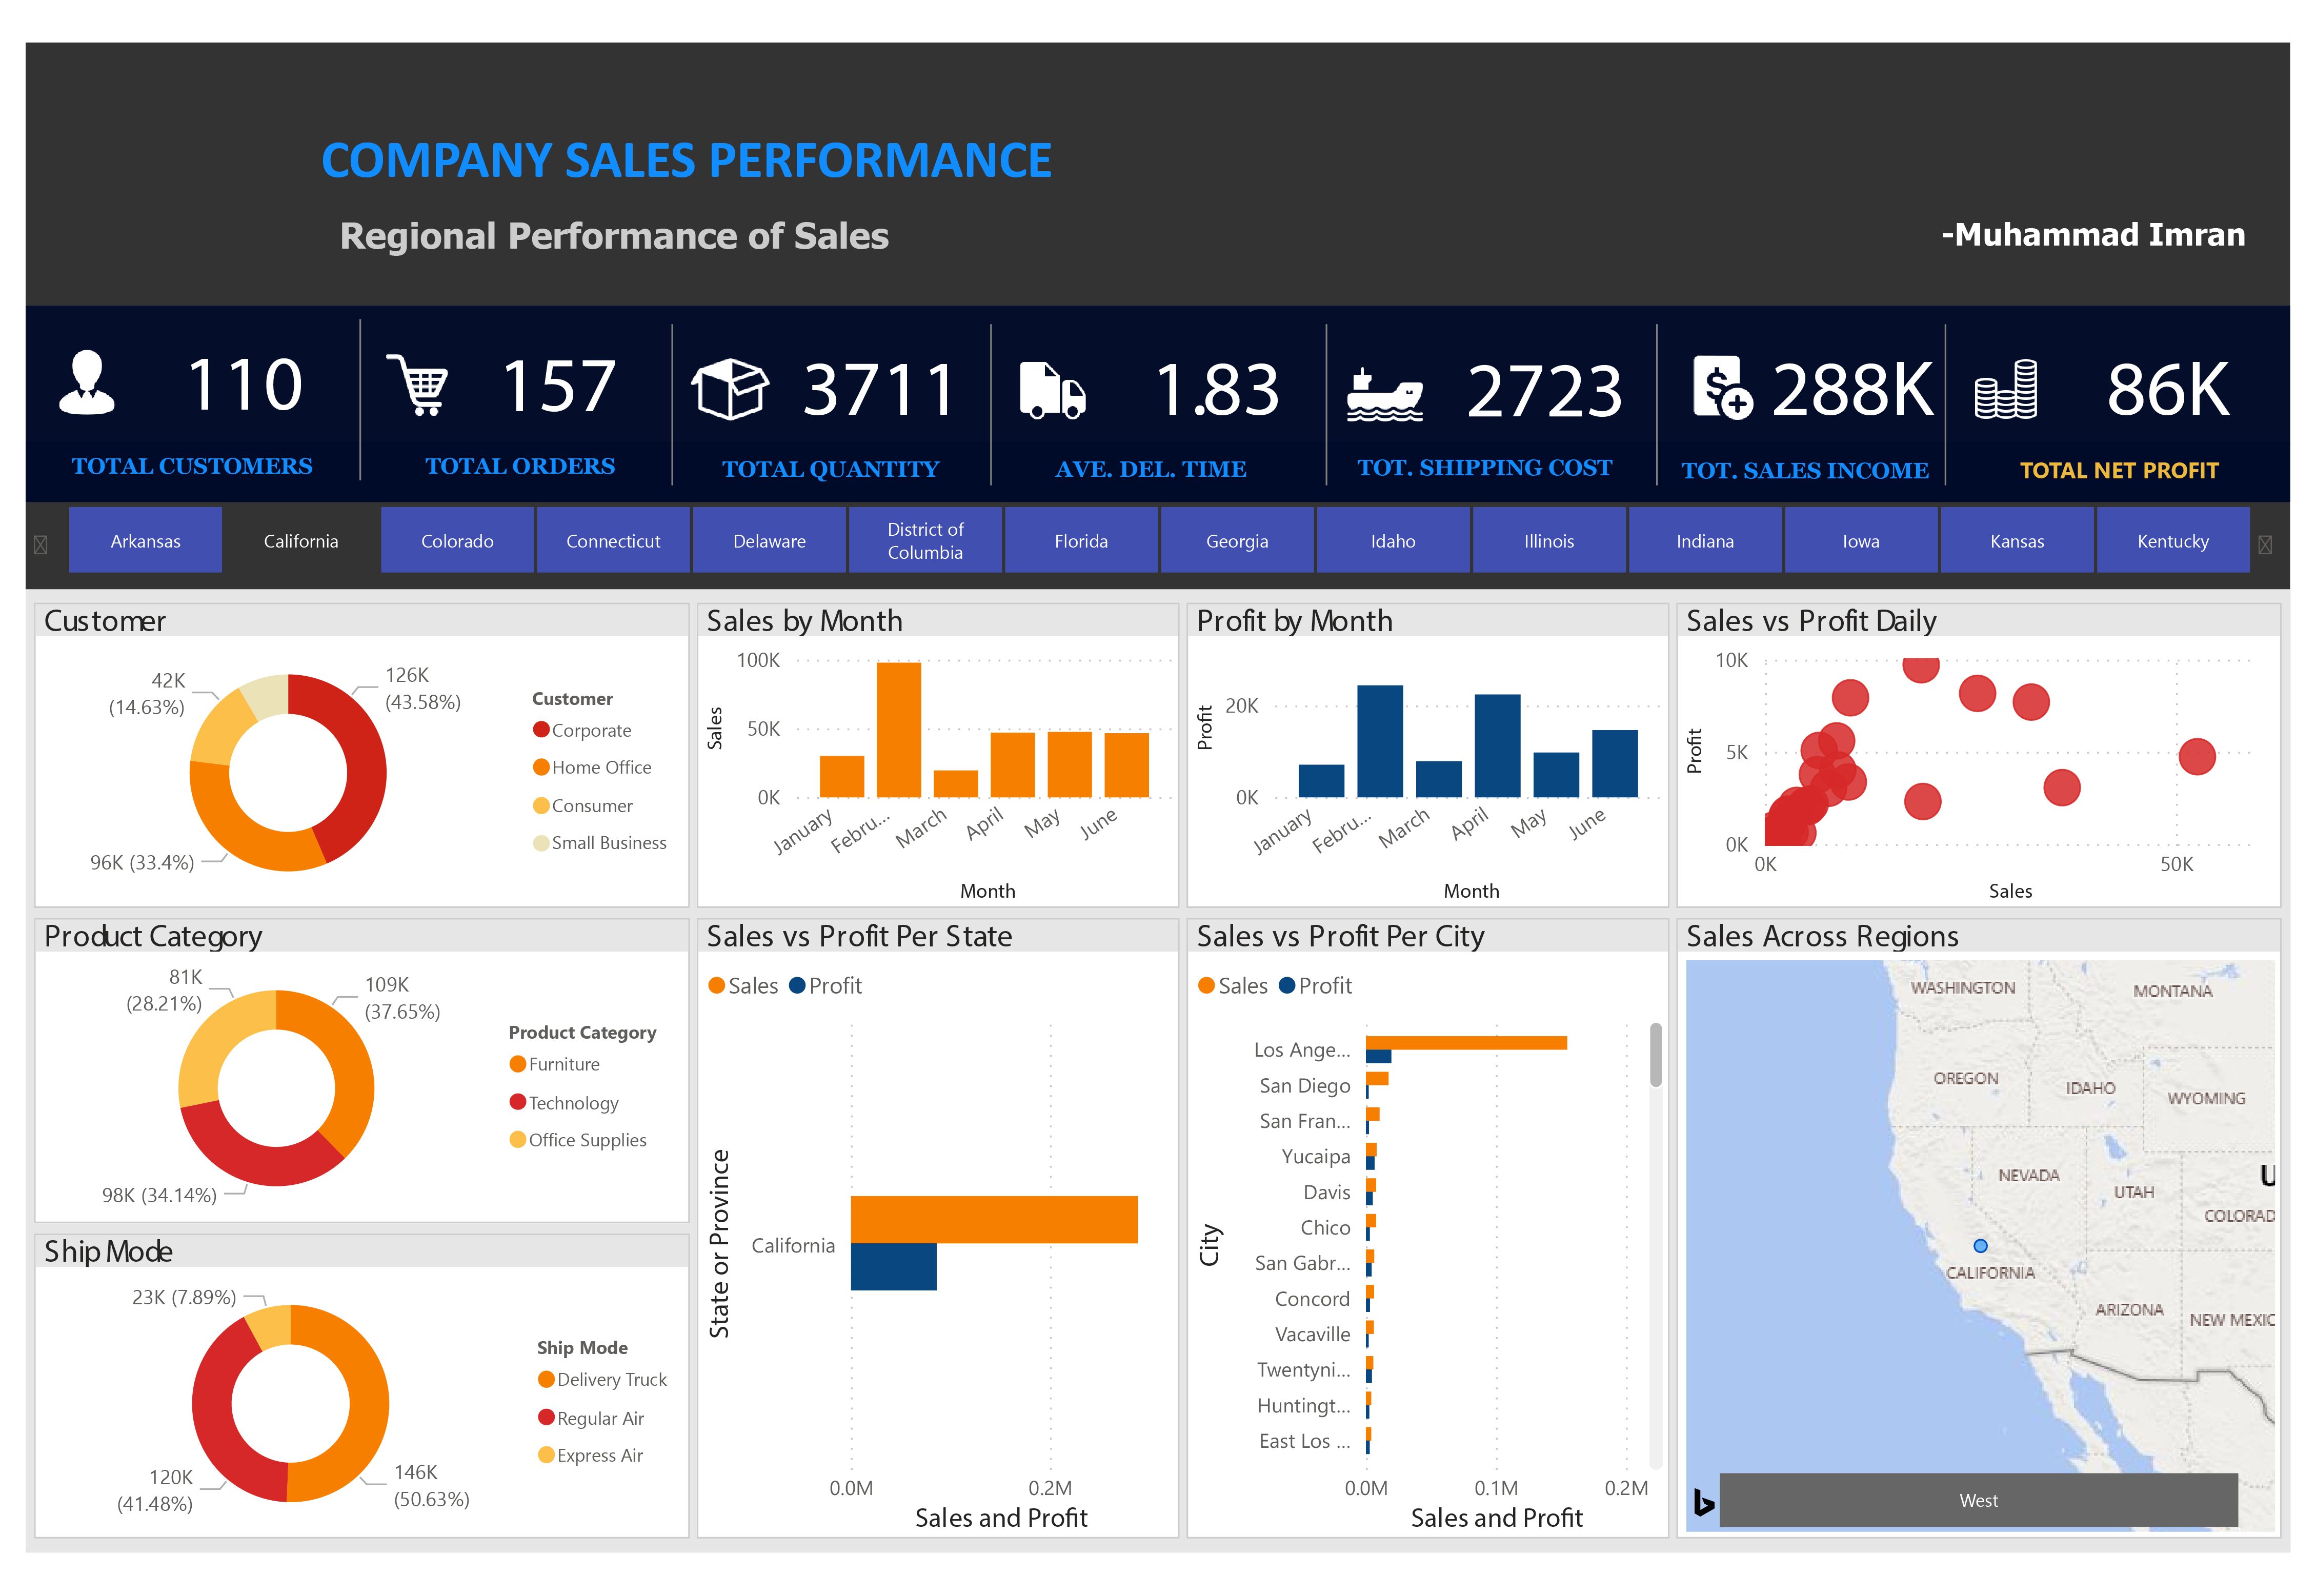

The page's visual inventory and layout, read from the dashboard file:
{"tool":"powerbi","page":{"name":"Global Store Performance","canvas":[1350,900],"ordinal":0},"visuals":[{"type":"basicShape","box":[0,238,1350,36],"z":1000},{"type":"basicShape","box":[0,326,1350,574],"z":2000},{"type":"textbox","box":[171,45,571,51],"z":4000},{"type":"textbox","box":[1137,97,197,39],"z":5000},{"type":"basicShape","box":[0,157,1350,83],"z":7000},{"type":"image","box":[6,178,61,49],"z":8000},{"type":"image","box":[209,181,49,47],"z":9000},{"type":"image","box":[386,173,67,58],"z":10000},{"type":"image","box":[579,183,66,49],"z":11000},{"type":"image","box":[779,176,63,55],"z":12000},{"type":"image","box":[980,179,58,51],"z":13000},{"type":"image","box":[1149,183,62,47],"z":14000},{"type":"slicer","fields":{"Values":["tblOrders.State or Province"]},"box":[0,270,1350,53],"z":15000},{"type":"textbox","box":[7,238,185,31],"z":16000},{"type":"textbox","box":[217,238,156,31],"z":17000},{"type":"textbox","box":[402,240,156,31],"z":18000},{"type":"textbox","box":[593,240,156,31],"z":19000},{"type":"textbox","box":[786,239,168,31],"z":20000},{"type":"textbox","box":[977,241,168,31],"z":21000},{"type":"textbox","box":[1152,241,193,31],"z":22000},{"type":"card","fields":{"Values":["Count(tblOrders.Customer ID)"]},"box":[62,166,132,67],"z":23000},{"type":"card","fields":{"Values":["Count(tblOrders.Order ID)"]},"box":[251,167,132,67],"z":24000},{"type":"card","fields":{"Values":["Sum(tblOrders.Quantity ordered new)"]},"box":[442,169,132,67],"z":25000},{"type":"card","fields":{"Values":["Avg(tblOrders.Delivery Lead Time)"]},"box":[643,169,132,67],"z":26000},{"type":"card","fields":{"Values":["Sum(tblOrders.Shipping Cost)"]},"box":[838,170,132,67],"z":27000},{"type":"card","fields":{"Values":["Sum(tblOrders.Sales)"]},"box":[1031,169,114,67],"z":28000},{"type":"card","fields":{"Values":["Sum(tblOrders.Profit)"]},"box":[1211,169,132,67],"z":29000},{"type":"basicShape","box":[192,155,15,116],"z":30000},{"type":"basicShape","box":[378,158,15,116],"z":31000},{"type":"basicShape","box":[568,158,15,116],"z":32000},{"type":"basicShape","box":[768,158,15,116],"z":33000},{"type":"basicShape","box":[965,158,15,116],"z":34000},{"type":"basicShape","box":[1137,158,15,116],"z":35000},{"type":"donutChart","title":"Customer","fields":{"Y":["Sum(tblOrders.Sales)"],"Category":["tblOrders.Customer Segment"]},"box":[5,334,391,182],"z":36000},{"type":"donutChart","title":"Product Category","fields":{"Y":["Sum(tblOrders.Sales)"],"Series":["tblOrders.Product Category"]},"box":[5,522,391,182],"z":37000},{"type":"donutChart","title":"Ship Mode","fields":{"Y":["Sum(tblOrders.Sales)"],"Category":["tblOrders.Ship Mode"]},"box":[5,710,391,182],"z":38000},{"type":"clusteredColumnChart","fields":{"Y":["Sum(tblOrders.Sales)"],"Category":["tblOrders.Order Date.Variation.Date Hierarchy.Month"]},"box":[400,334,288,182],"z":39000},{"type":"clusteredColumnChart","fields":{"Category":["tblOrders.Order Date.Variation.Date Hierarchy.Month"],"Y":["Sum(tblOrders.Profit)"]},"box":[692,334,288,182],"z":40000},{"type":"clusteredBarChart","title":"Sales vs Profit Per State","fields":{"Y":["Sum(tblOrders.Sales)","Sum(tblOrders.Profit)"],"Category":["tblOrders.State or Province"]},"box":[400,522,288,370],"z":41000},{"type":"clusteredBarChart","title":"Sales vs Profit Per City","fields":{"Y":["Sum(tblOrders.Sales)","Sum(tblOrders.Profit)"],"Category":["tblOrders.City"]},"box":[692,522,288,370],"z":42000},{"type":"scatterChart","title":"Sales vs Profit Daily","fields":{"Category":["tblOrders.Order Date.Variation.Date Hierarchy.Day"],"X":["Sum(tblOrders.Sales)"],"Y":["Sum(tblOrders.Profit)"]},"box":[984,334,361,182],"z":43000},{"type":"map","title":"Sales Across Regions","fields":{"Category":["tblOrders.State or Province"],"Size":["Sum(tblOrders.Sales)"]},"box":[984,522,361,370],"z":44000},{"type":"slicer","fields":{"Values":["tblOrders.Region"]},"box":[984,846,359,46],"z":45000},{"type":"textbox","box":[182,97,415,39],"z":45001}]}

Visuals, with their boxes on the page's 1350x900 design canvas (x1, y1, x2, y2). These are canvas units, not pixel positions in the 2316x1596 screenshot, which may show the page scaled, cropped or inside an application window:
basicShape: l=0, t=238, r=1350, b=274
basicShape: l=0, t=326, r=1350, b=900
textbox: l=171, t=45, r=742, b=96
textbox: l=1137, t=97, r=1334, b=136
basicShape: l=0, t=157, r=1350, b=240
image: l=6, t=178, r=67, b=227
image: l=209, t=181, r=258, b=228
image: l=386, t=173, r=453, b=231
image: l=579, t=183, r=645, b=232
image: l=779, t=176, r=842, b=231
image: l=980, t=179, r=1038, b=230
image: l=1149, t=183, r=1211, b=230
slicer - tblOrders.State or Province: l=0, t=270, r=1350, b=323
textbox: l=7, t=238, r=192, b=269
textbox: l=217, t=238, r=373, b=269
textbox: l=402, t=240, r=558, b=271
textbox: l=593, t=240, r=749, b=271
textbox: l=786, t=239, r=954, b=270
textbox: l=977, t=241, r=1145, b=272
textbox: l=1152, t=241, r=1345, b=272
card - Count(tblOrders.Customer ID): l=62, t=166, r=194, b=233
card - Count(tblOrders.Order ID): l=251, t=167, r=383, b=234
card - Sum(tblOrders.Quantity ordered new): l=442, t=169, r=574, b=236
card - Avg(tblOrders.Delivery Lead Time): l=643, t=169, r=775, b=236
card - Sum(tblOrders.Shipping Cost): l=838, t=170, r=970, b=237
card - Sum(tblOrders.Sales): l=1031, t=169, r=1145, b=236
card - Sum(tblOrders.Profit): l=1211, t=169, r=1343, b=236
basicShape: l=192, t=155, r=207, b=271
basicShape: l=378, t=158, r=393, b=274
basicShape: l=568, t=158, r=583, b=274
basicShape: l=768, t=158, r=783, b=274
basicShape: l=965, t=158, r=980, b=274
basicShape: l=1137, t=158, r=1152, b=274
"Customer" donutChart: l=5, t=334, r=396, b=516
"Product Category" donutChart: l=5, t=522, r=396, b=704
"Ship Mode" donutChart: l=5, t=710, r=396, b=892
clusteredColumnChart - Sum(tblOrders.Sales) x tblOrders.Order Date.Variation.Date Hierarchy.Month: l=400, t=334, r=688, b=516
clusteredColumnChart - tblOrders.Order Date.Variation.Date Hierarchy.Month x Sum(tblOrders.Profit): l=692, t=334, r=980, b=516
"Sales vs Profit Per State" clusteredBarChart: l=400, t=522, r=688, b=892
"Sales vs Profit Per City" clusteredBarChart: l=692, t=522, r=980, b=892
"Sales vs Profit Daily" scatterChart: l=984, t=334, r=1345, b=516
"Sales Across Regions" map: l=984, t=522, r=1345, b=892
slicer - tblOrders.Region: l=984, t=846, r=1343, b=892
textbox: l=182, t=97, r=597, b=136
